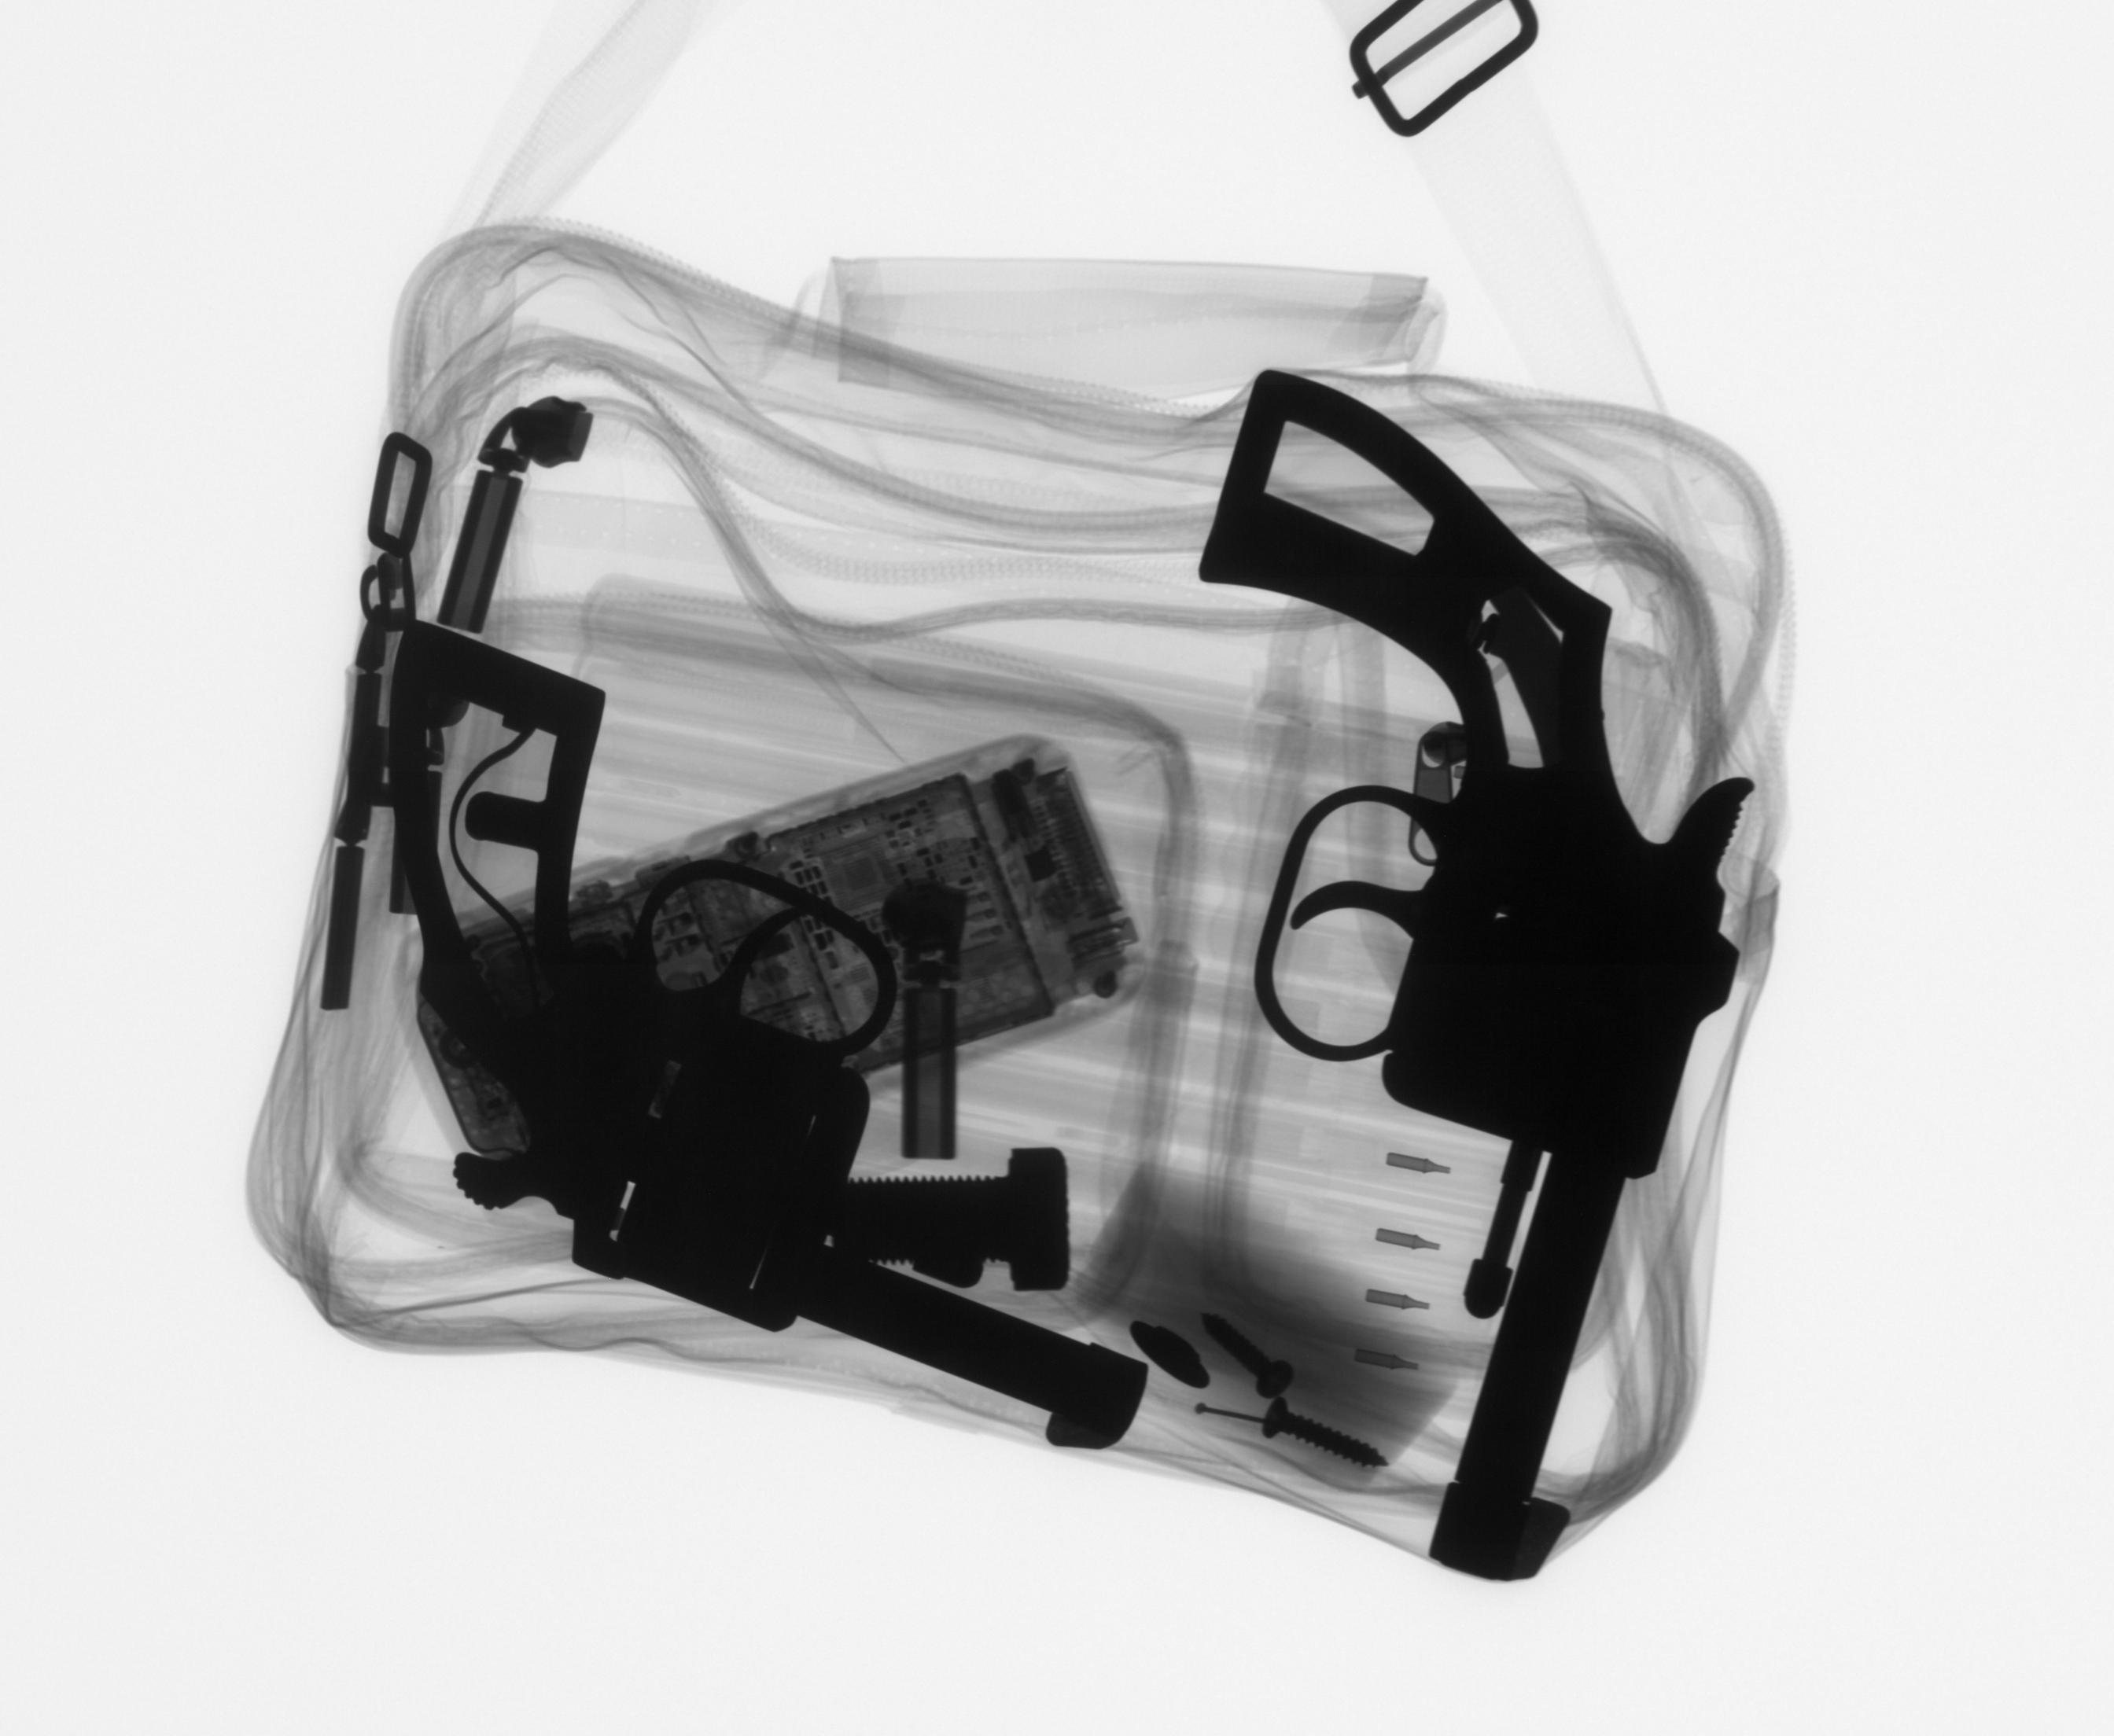Handgun: (1188, 359, 1770, 1591), (379, 610, 1159, 1459)
